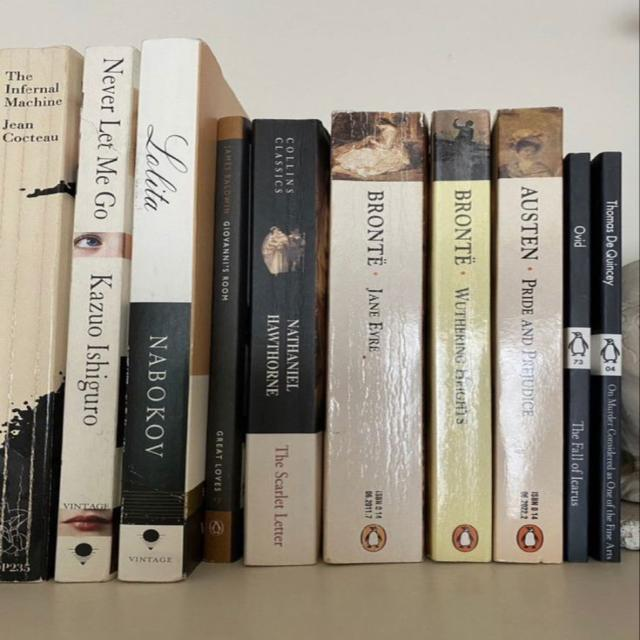book: (118, 39, 242, 582), (322, 113, 425, 564), (53, 47, 138, 582), (0, 47, 83, 582), (244, 119, 328, 566), (493, 108, 563, 563), (428, 110, 492, 562), (204, 116, 250, 562), (590, 153, 621, 562), (563, 152, 590, 562)
